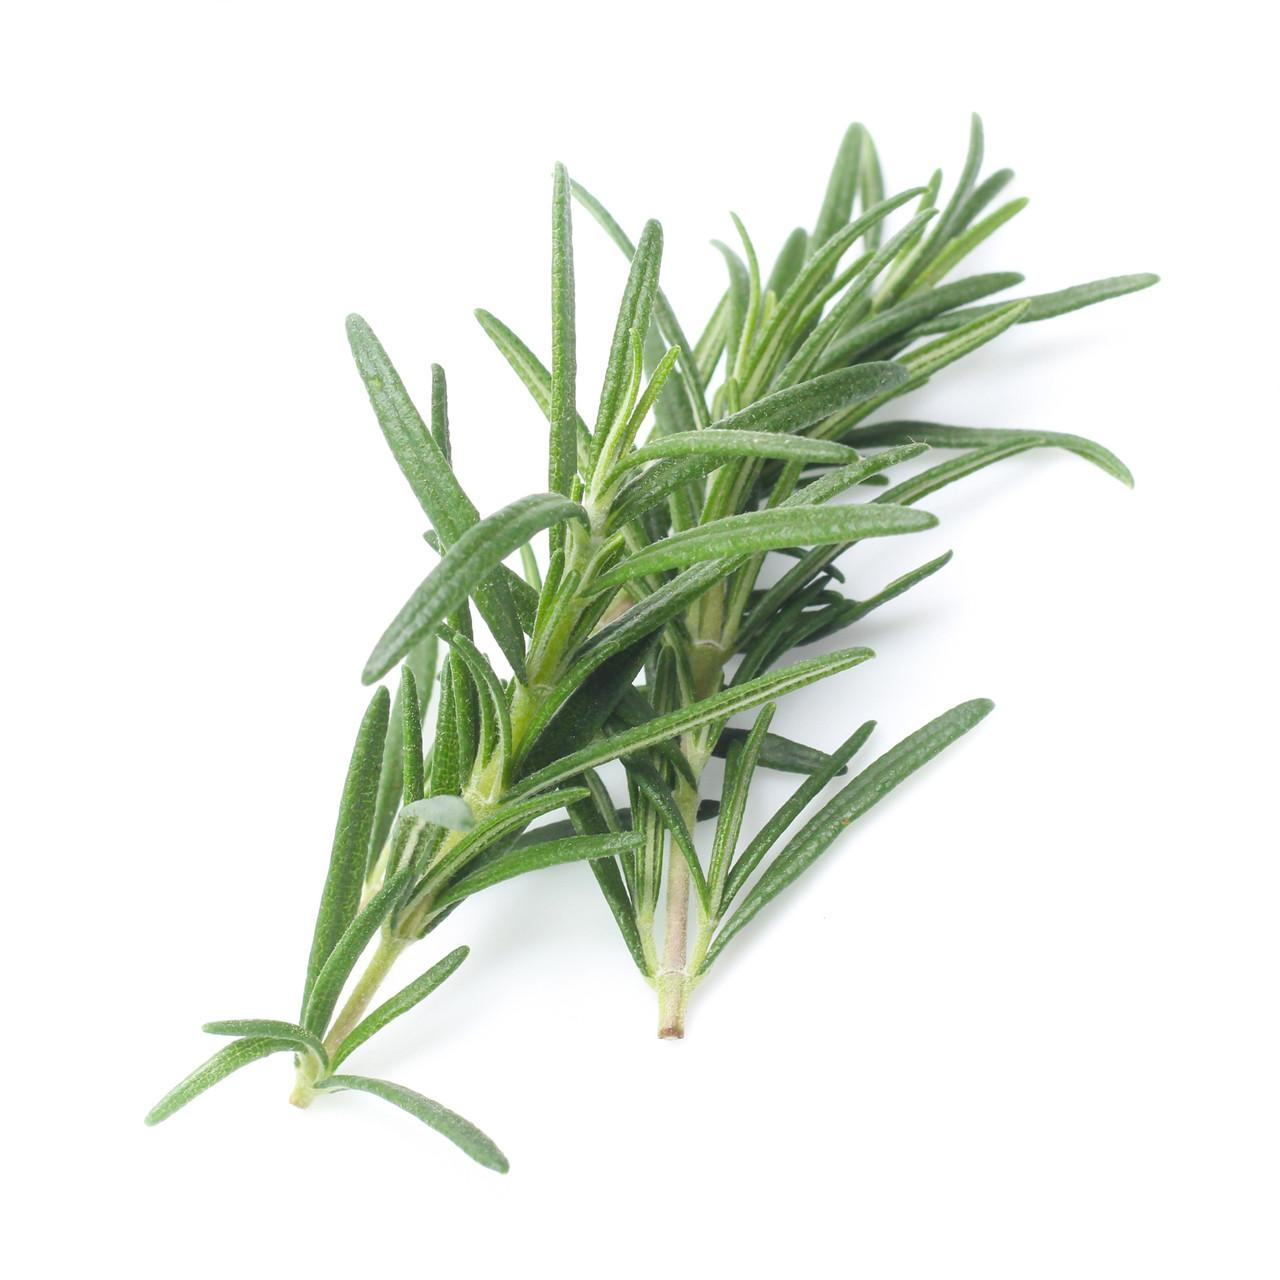organic: (137, 110, 1165, 1178)
